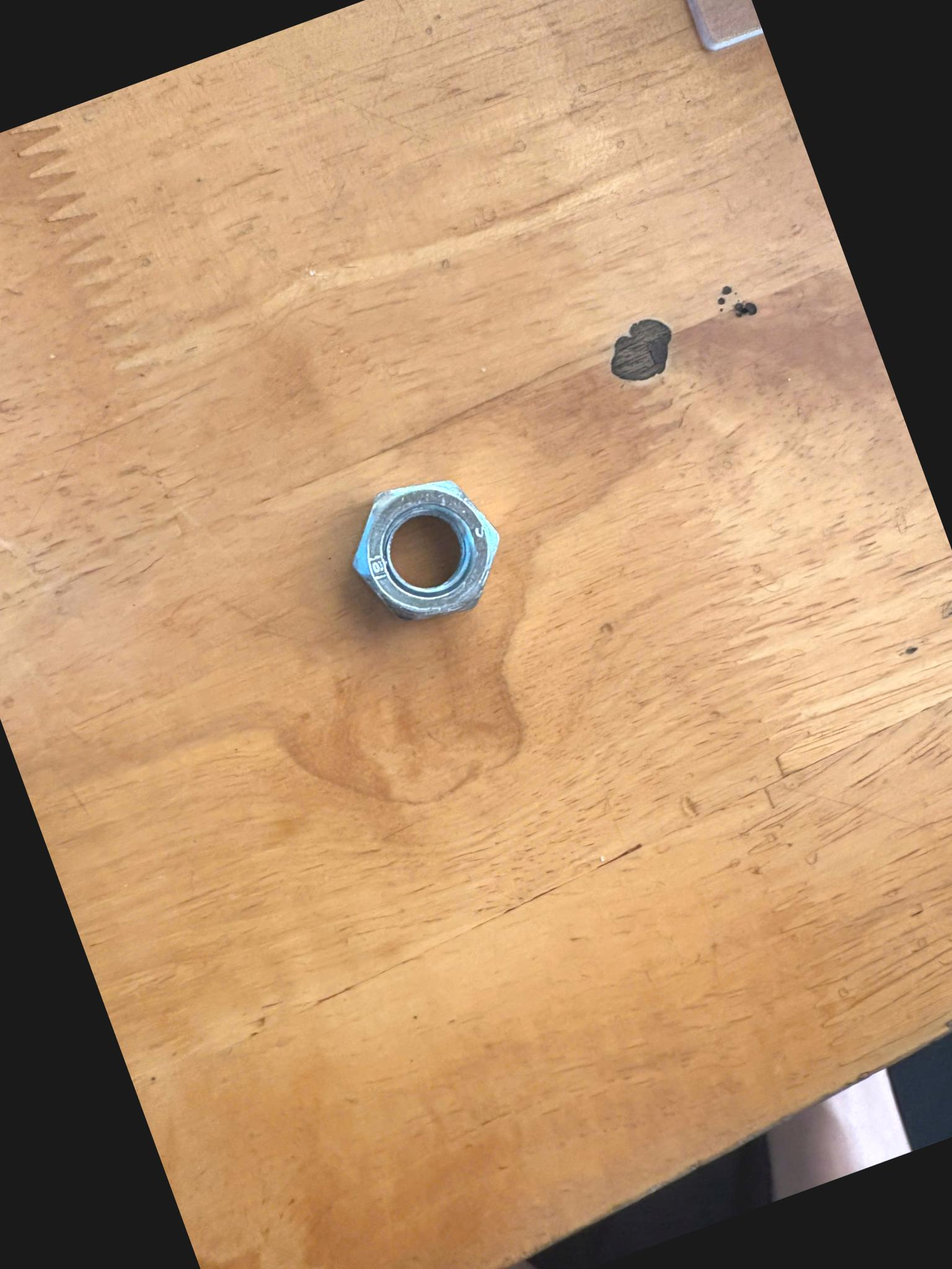nut: (288, 441, 533, 673)
